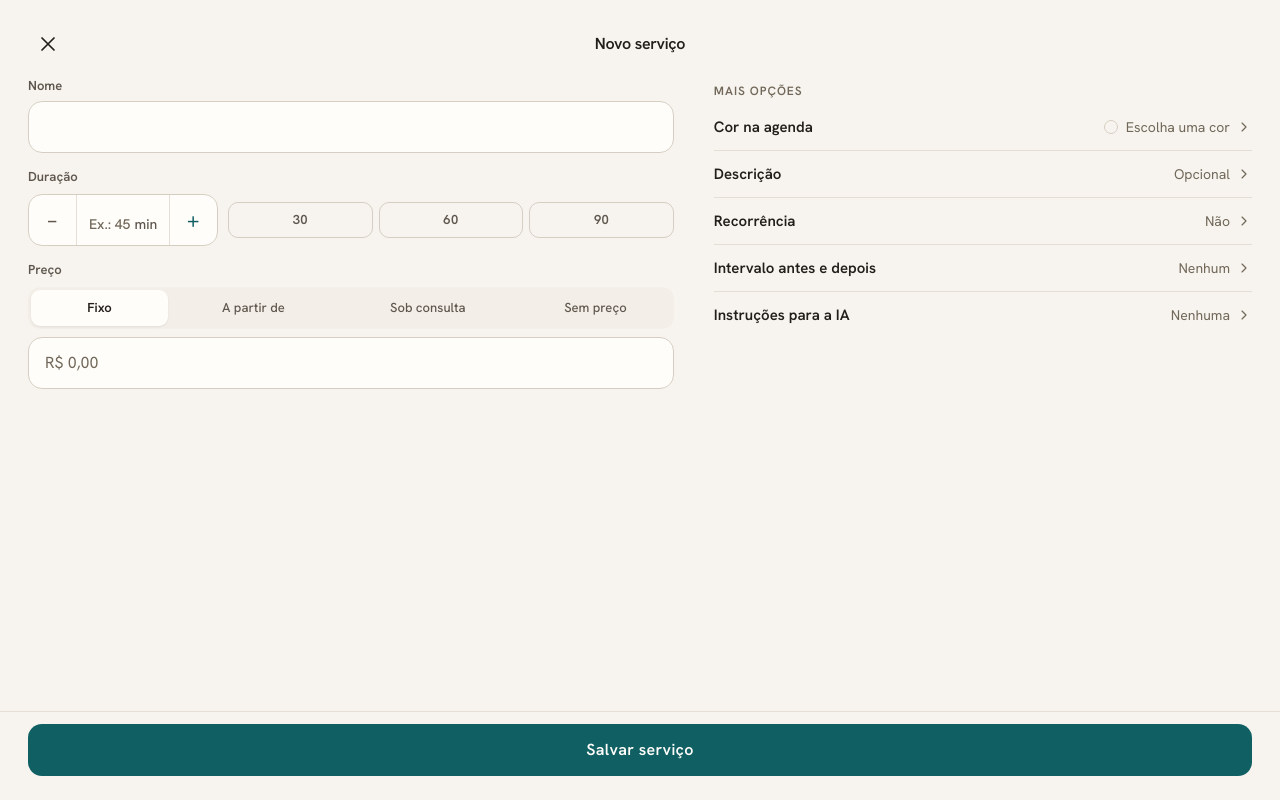
Test: Goal095 prova 2: novo serviço (S3) › a regra de preço responde antes de qualquer pedido
This screenshot has width=1280, height=800.
Type "Manicure" into the field labelled "Nome" at {"x": 351, "y": 127}, box [28, 101, 674, 153]
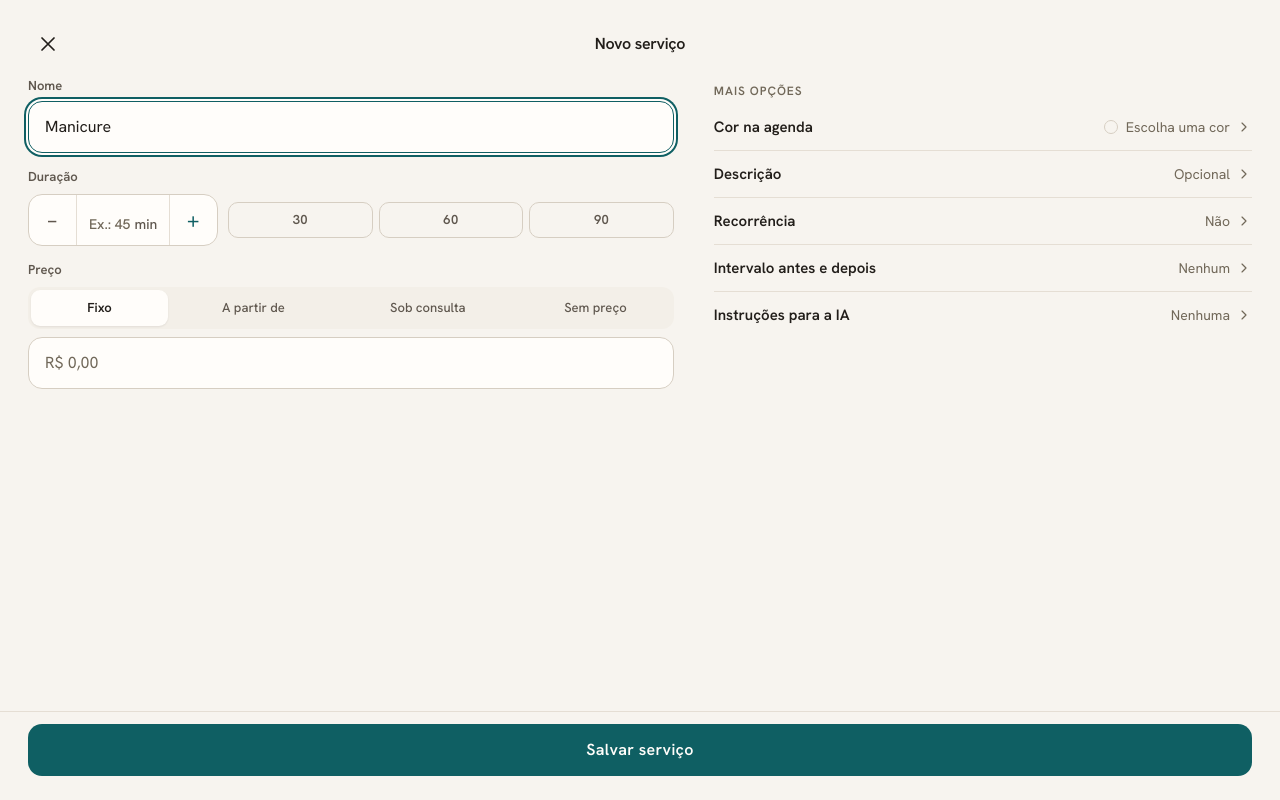
Click the button "Salvar serviço" at {"x": 640, "y": 750}, box [28, 724, 1252, 776]
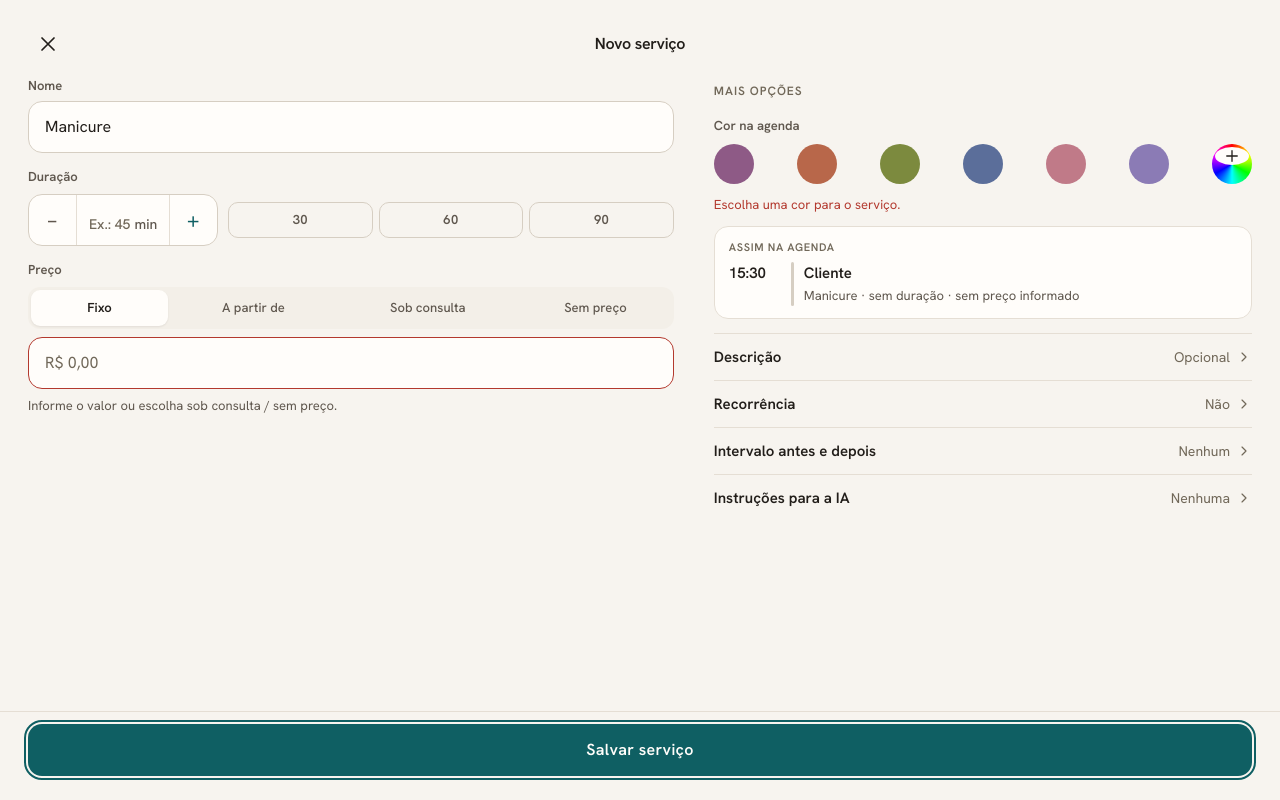
Expected: the text "Informe o valor ou escolha sob consulta / sem preço." is shown, [28, 397, 337, 414]
